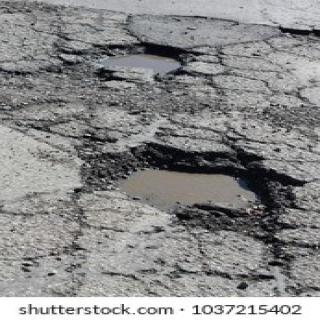pothole: (96, 143, 291, 239), (90, 44, 180, 76)
